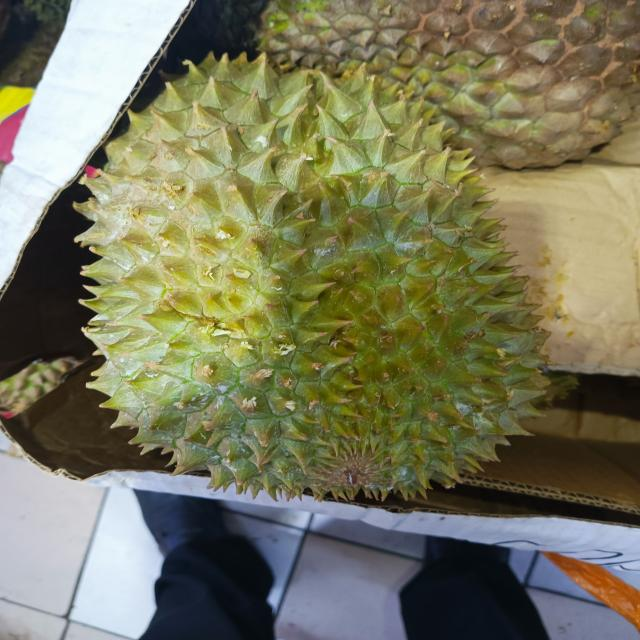immature: (60, 42, 568, 504)
